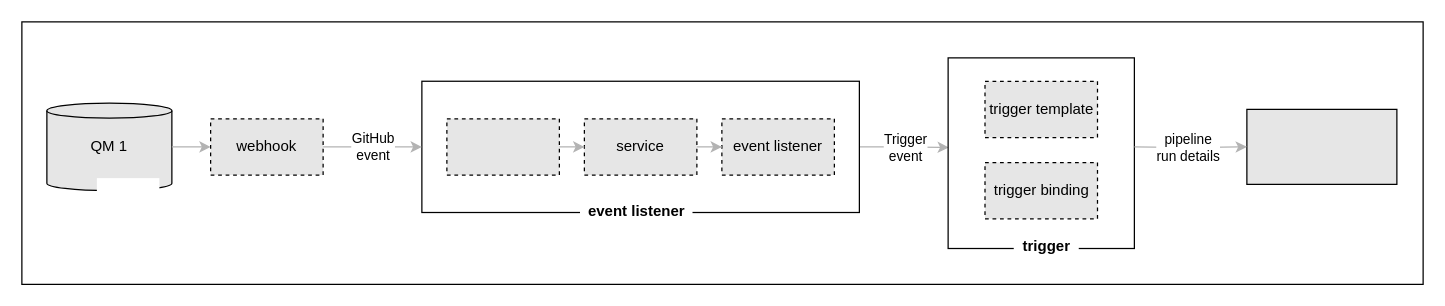
The diagram is 1445 pixels wide and 306 high, and some of its shapes have lost their labels. Here are the shapes that lost their labels. From the top down, the centre of each, then its label:
At point (502, 146): "route".
At point (1321, 146): "queue manager pipeline".
At point (127, 190): "Git repo".
